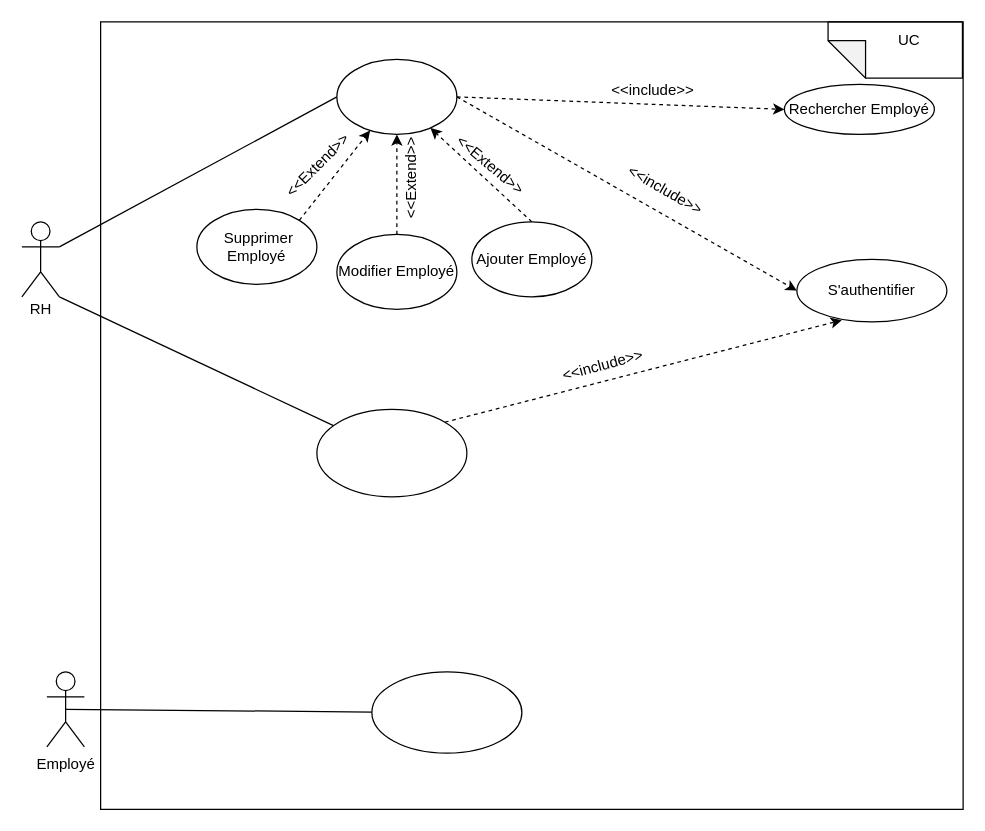
Image size: 985x831. Some labels were removed from this diagram. The centre of each missing label's shape, as x and y in pixels:
Consulter Historique: pixel 391 452
Màj Employé: pixel 396 96
Pointer: pixel 446 712
